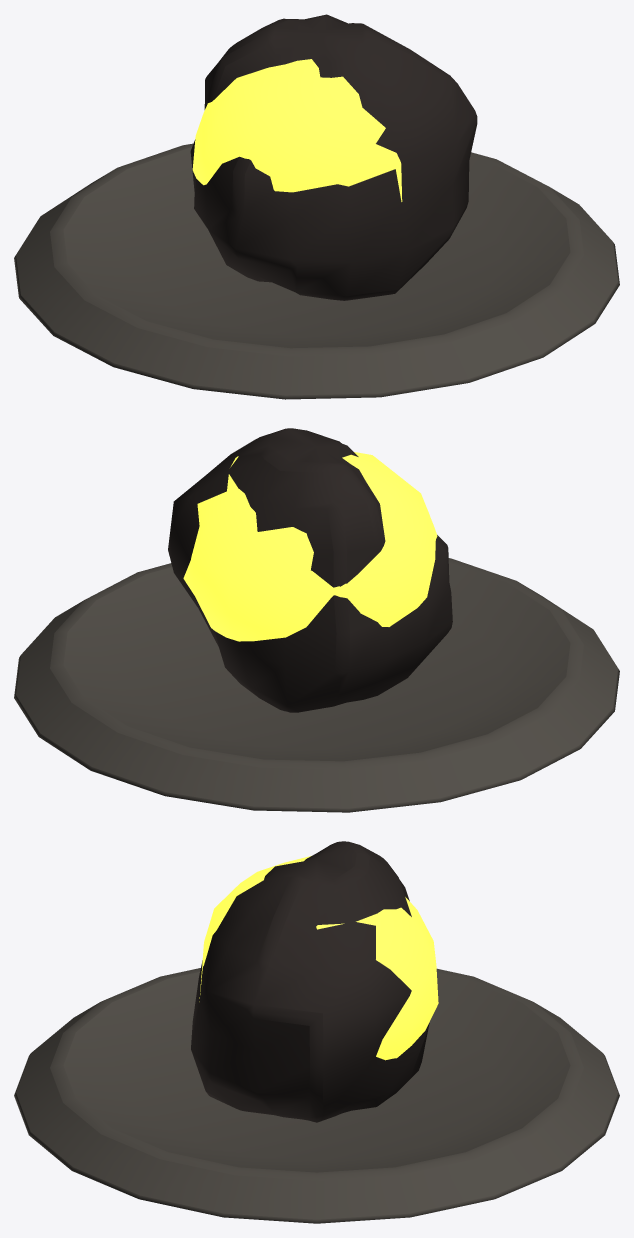
Rendered from meteorit.fbx.
3 renders of one model, top to bottom at view 1: azimuth 30°, elevation 25°; view 2: azimuth 150°, elevation 25°; view 3: azimuth 270°, elevation 25°, orthographic.
Parts seen in each view (by area): view 1: meteorit_Koerper; view 2: meteorit_Koerper; view 3: meteorit_Koerper.
Boxes of the visible parts, <box> form: meteorit_Koerper: <box>14,14,619,399</box>; meteorit_Koerper: <box>14,428,619,812</box>; meteorit_Koerper: <box>14,841,619,1223</box>.
Bounding box in the file's own units: 1.97 × 0.9061 × 1.97.
